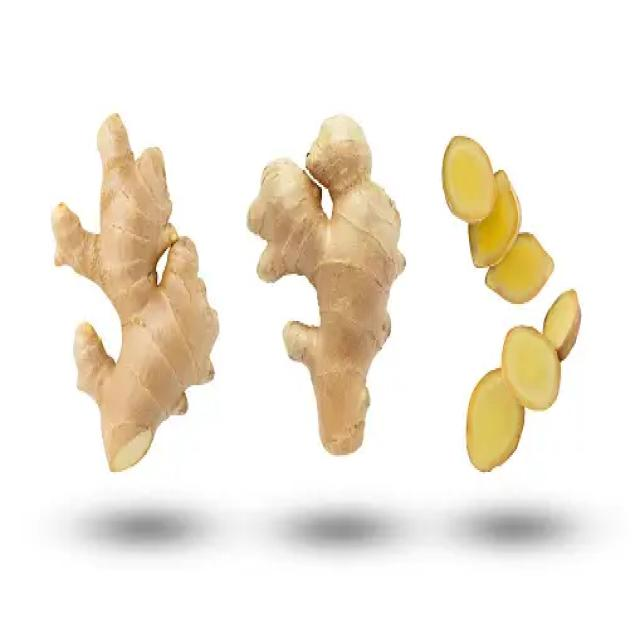ginger-root: (39, 96, 225, 510), (241, 92, 414, 518)
